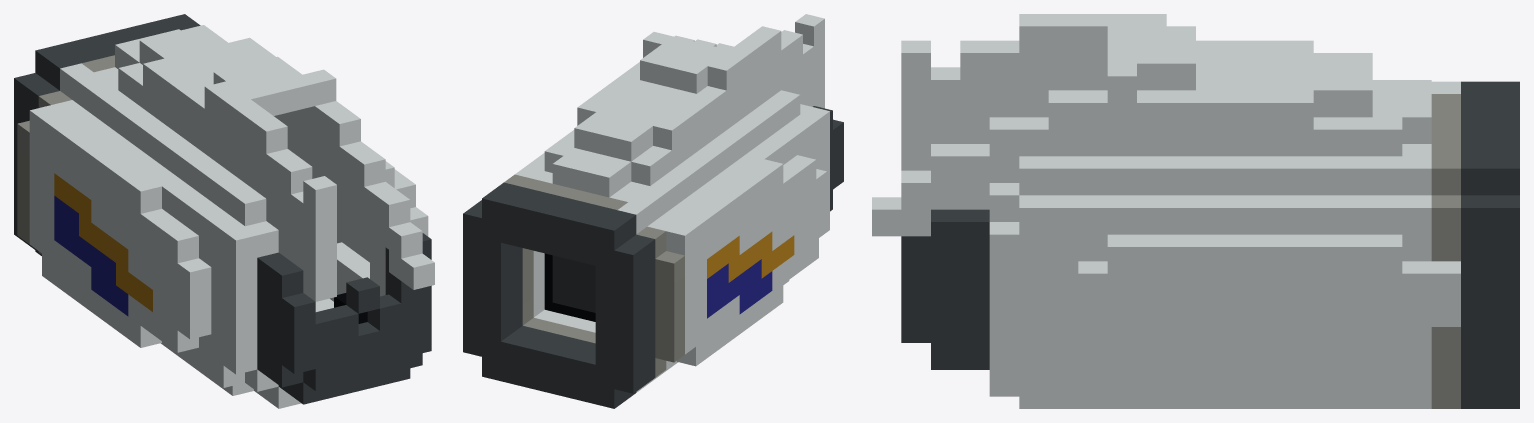
Rendered from Airplane-1.obj.
3 views of the same model, side by side, from view 1: azimuth 30°, elevation 25°; view 2: azimuth 150°, elevation 25°; view 3: azimuth 270°, elevation 25° (orthographic). The views are drawn at different scales.
Bounding box in the file's own units: 1.1 × 1.2 × 2.2.
Materials: 1 (1 with a texture image).
